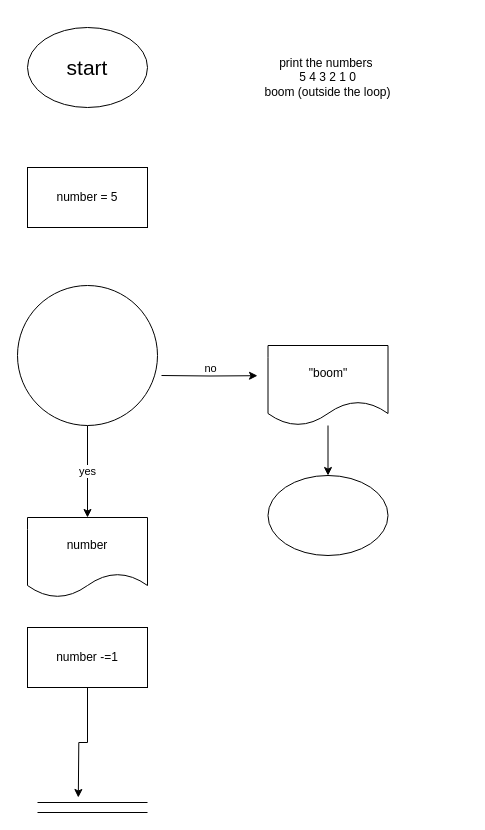
The diagram is 485 pixels wide and 830 high, and some of its shapes have lost their labels. The centre of each missing label's shape, as x and y in pixels:
"number <=5 and number >=0" goes at point (87, 355).
"stop" goes at point (327, 515).
